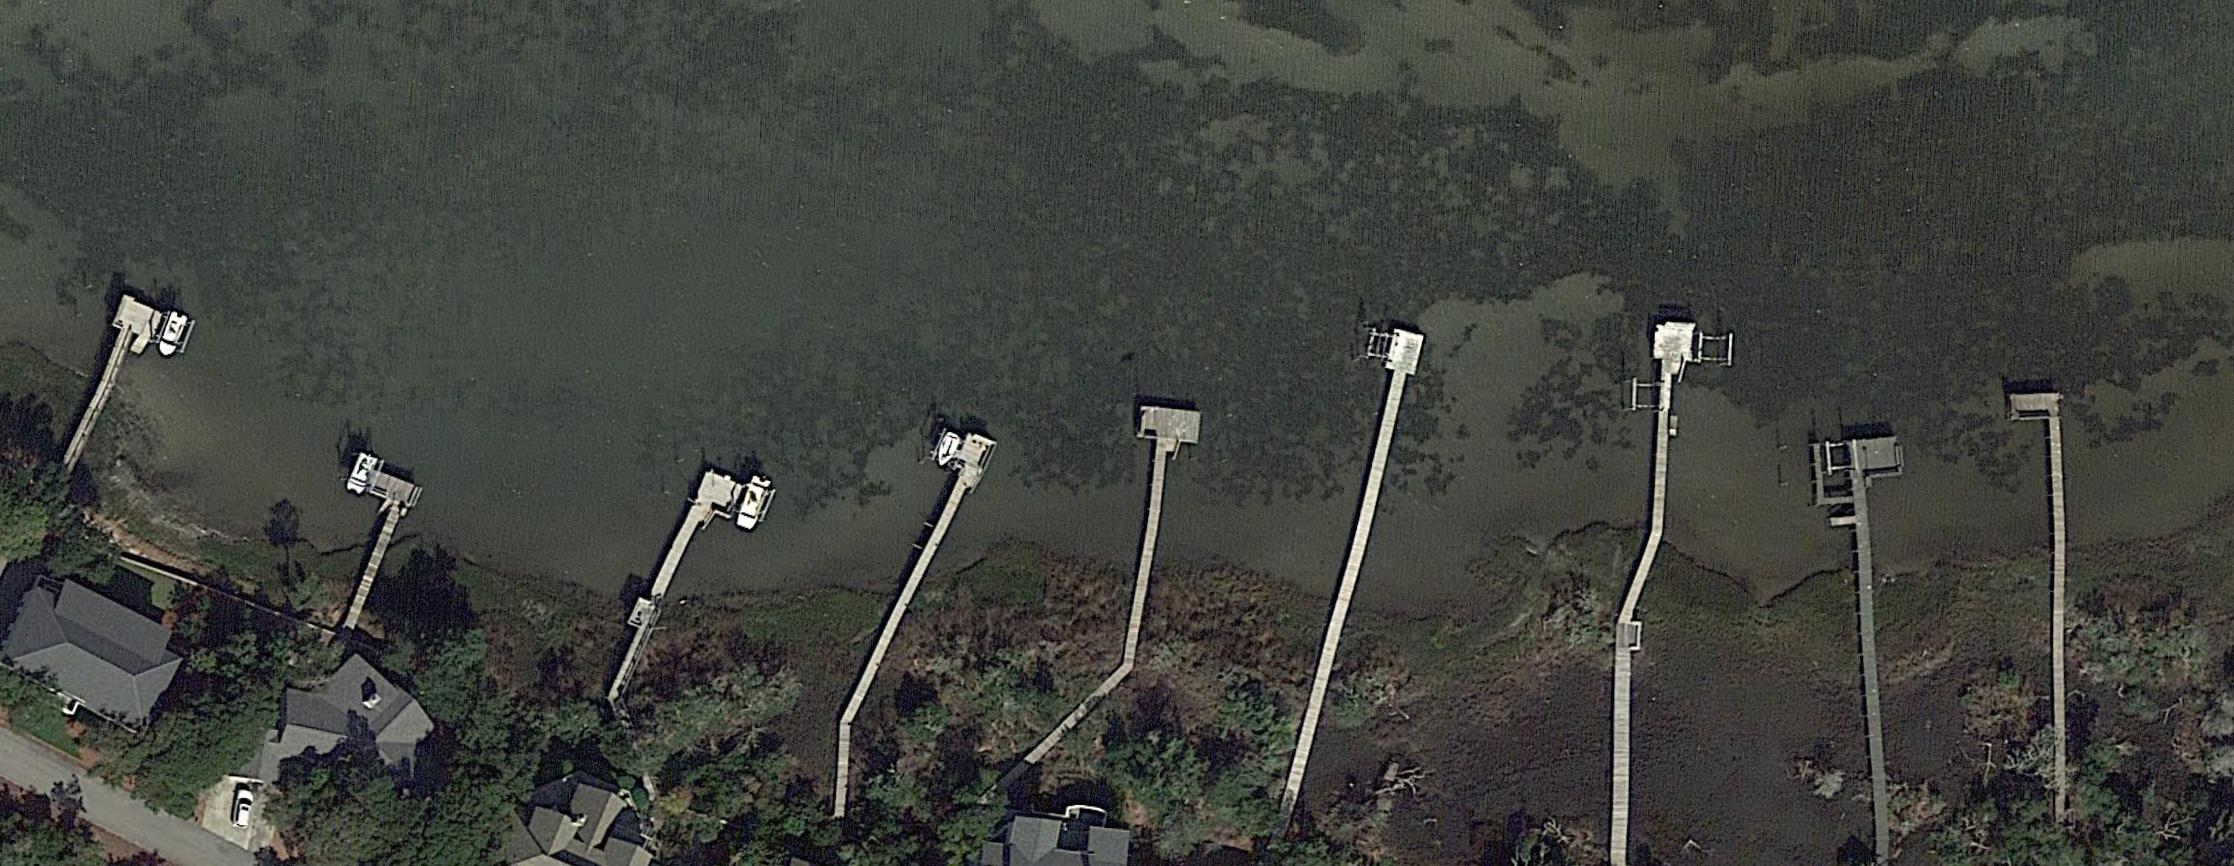harbor: (1287, 328, 1428, 768), (826, 427, 999, 729), (1812, 439, 1921, 856), (618, 469, 747, 681), (1106, 405, 1202, 667), (2010, 392, 2067, 818), (53, 292, 170, 479), (313, 469, 425, 622), (1646, 320, 1697, 537), (1611, 624, 1643, 862)
ship: (729, 471, 774, 538), (152, 308, 191, 360), (928, 424, 965, 477), (341, 450, 380, 499)
